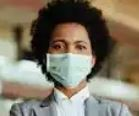with_facemask: (45, 53, 100, 84)
